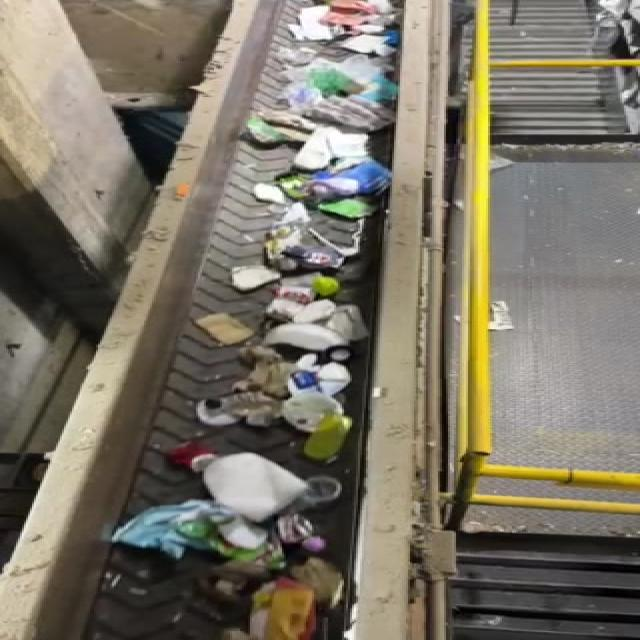paper: (118, 502, 297, 580), (242, 555, 350, 640)
pp: (168, 443, 307, 522), (278, 385, 373, 460), (289, 468, 345, 517)
